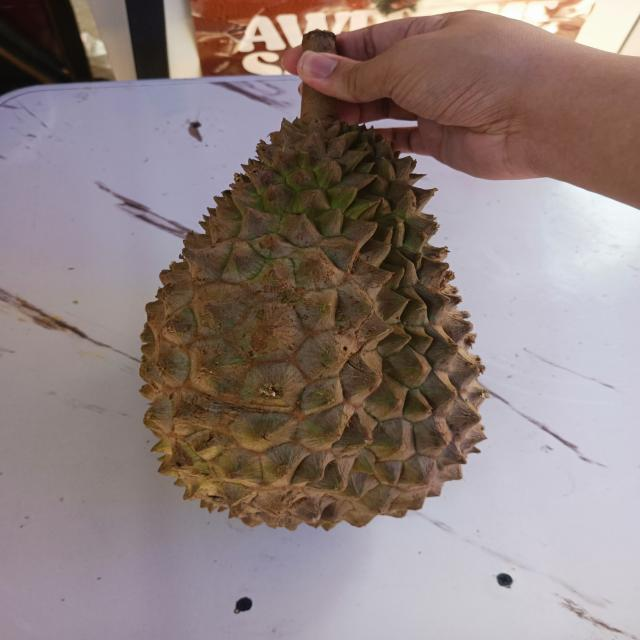mature: (140, 118, 489, 530)
